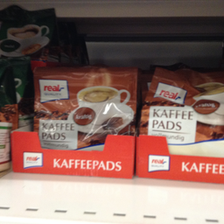coffee: (30, 65, 137, 149), (138, 66, 224, 157)
